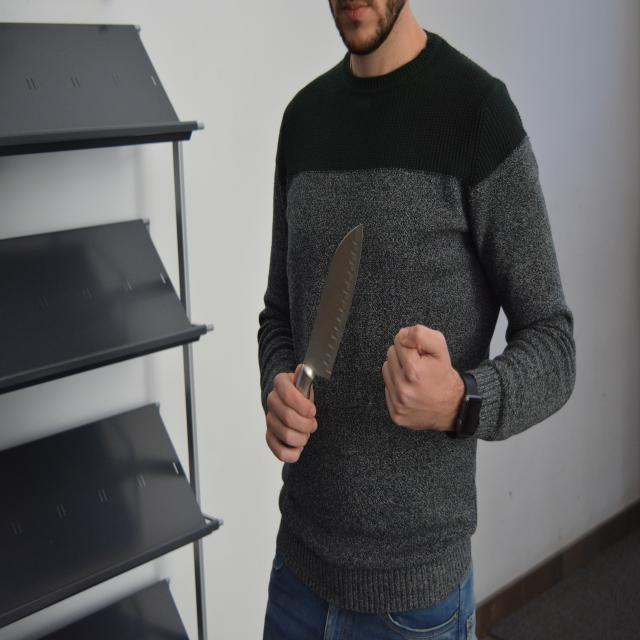knife: (306, 218, 372, 404)
